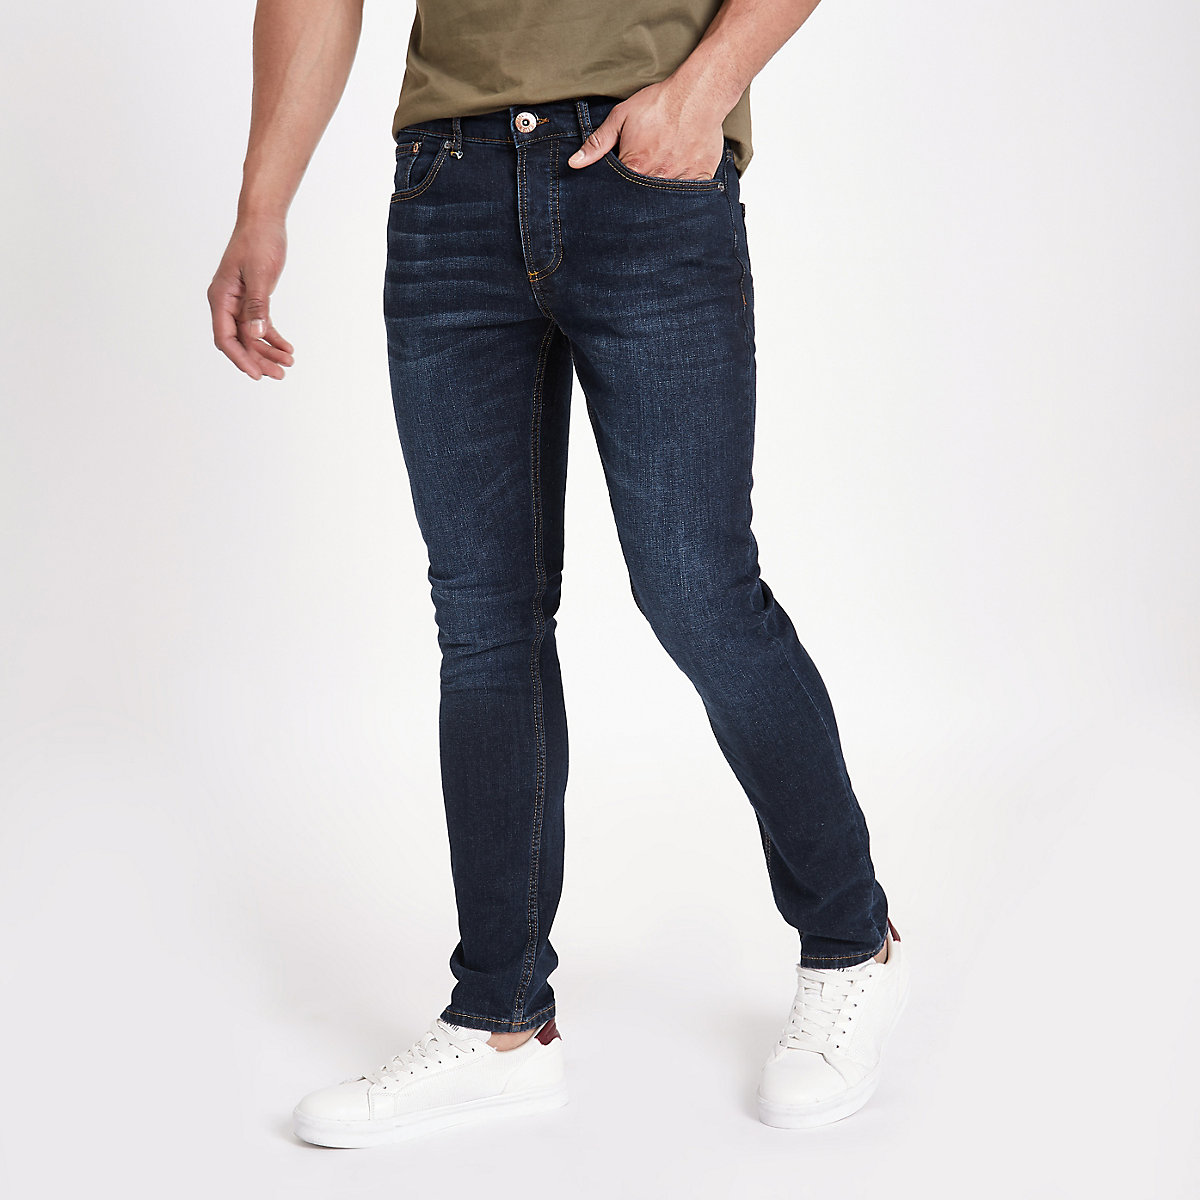jeans: (356, 108, 892, 1033)
